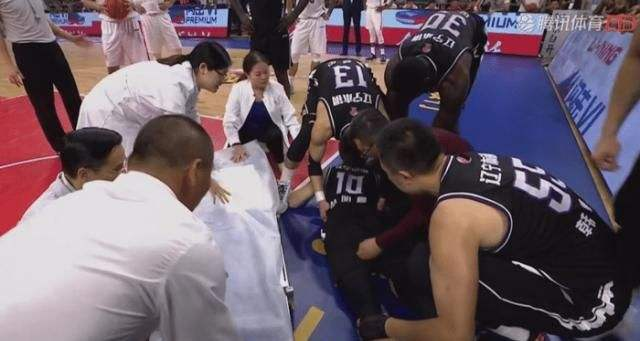10+: (1, 1, 635, 340)
down: (309, 115, 456, 339)
